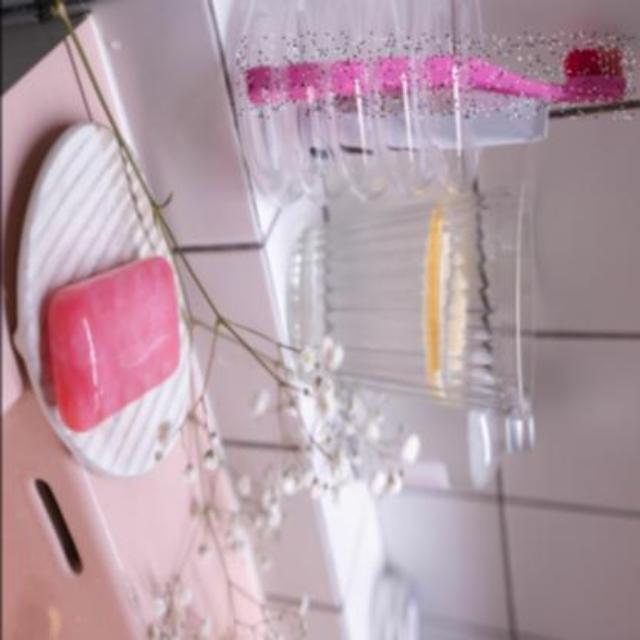toothbrush: (236, 32, 634, 118)
